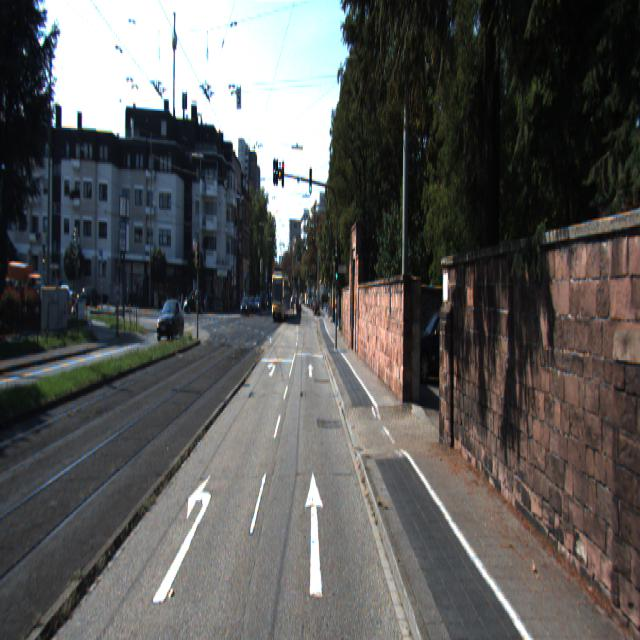Car: (156, 299, 184, 341)
